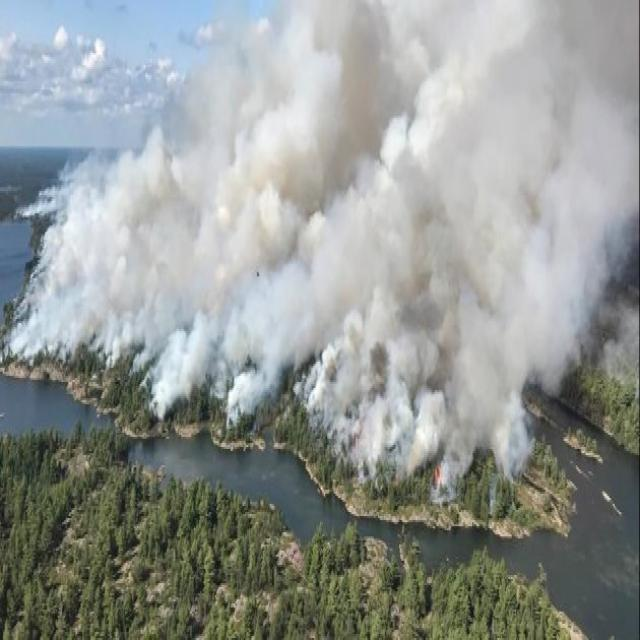Smoke: (2, 0, 637, 504)
